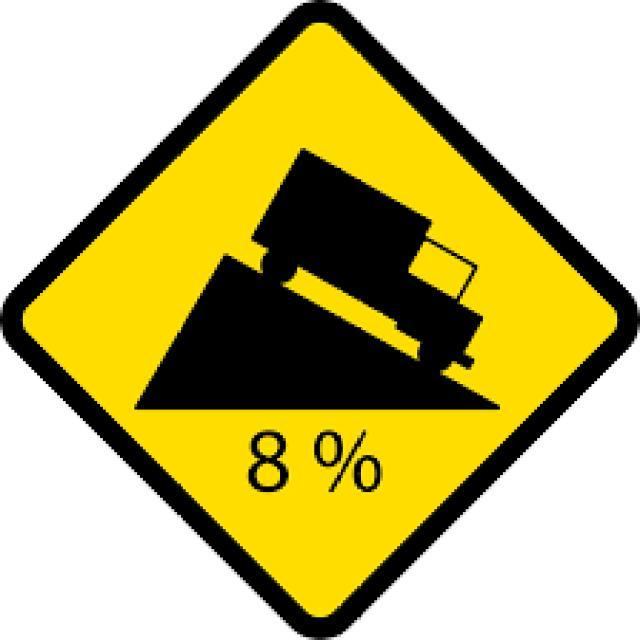steep descent: (20, 23, 619, 619)
